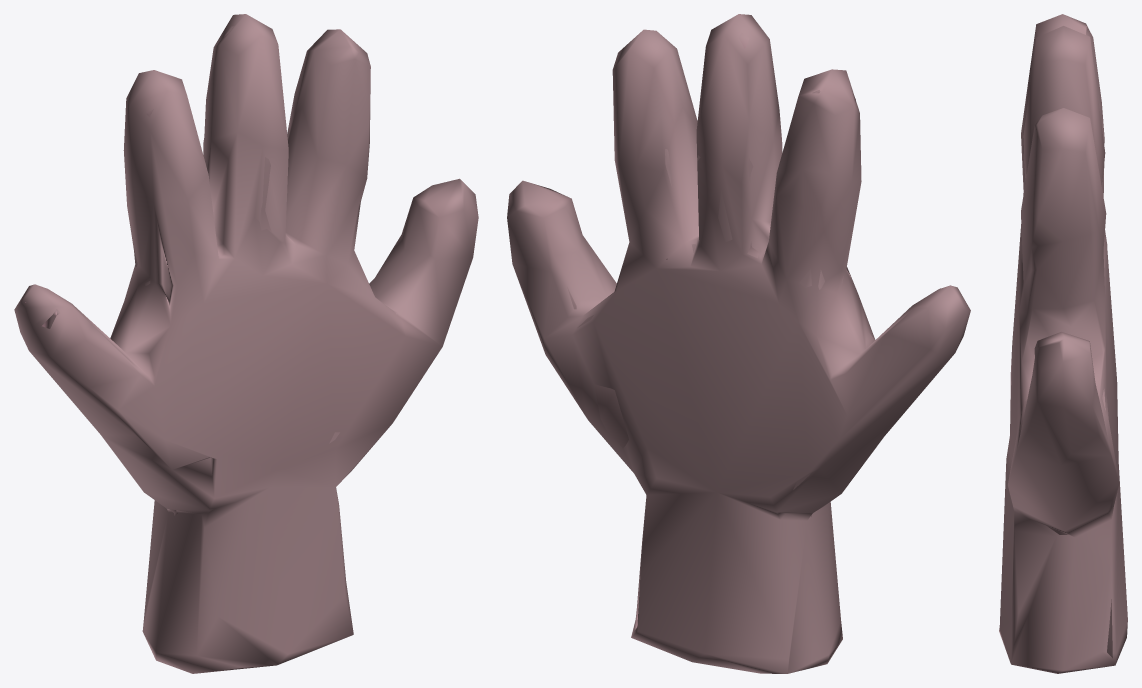
Rendered from gen3d-giant-hand-lod1.glb.
3 views of the same model, side by side, from view 1: azimuth 30°, elevation 25°; view 2: azimuth 150°, elevation 25°; view 3: azimuth 270°, elevation 25° (orthographic). The views are drawn at different scales.
Visible parts, largest first — view 1: part_0; view 2: part_0; view 3: part_0.
Part boxes in pixels (x1,y1,x2,y2): part_0: (14, 14, 478, 673); part_0: (507, 14, 970, 673); part_0: (999, 14, 1127, 673).
Bounding box in the file's own units: 0.7545 × 1 × 0.1906.
